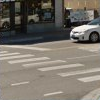crosswalk: (0, 50, 100, 83)
